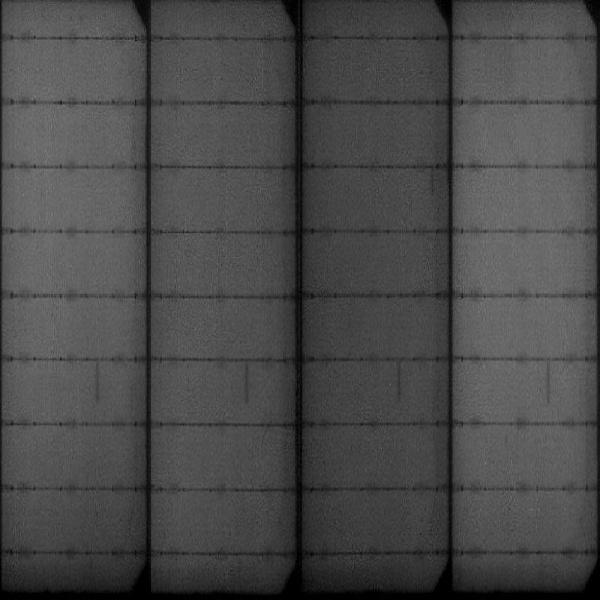scratch: (87, 360, 105, 408), (392, 360, 410, 403), (542, 357, 554, 414), (238, 363, 254, 403), (428, 169, 437, 200)
